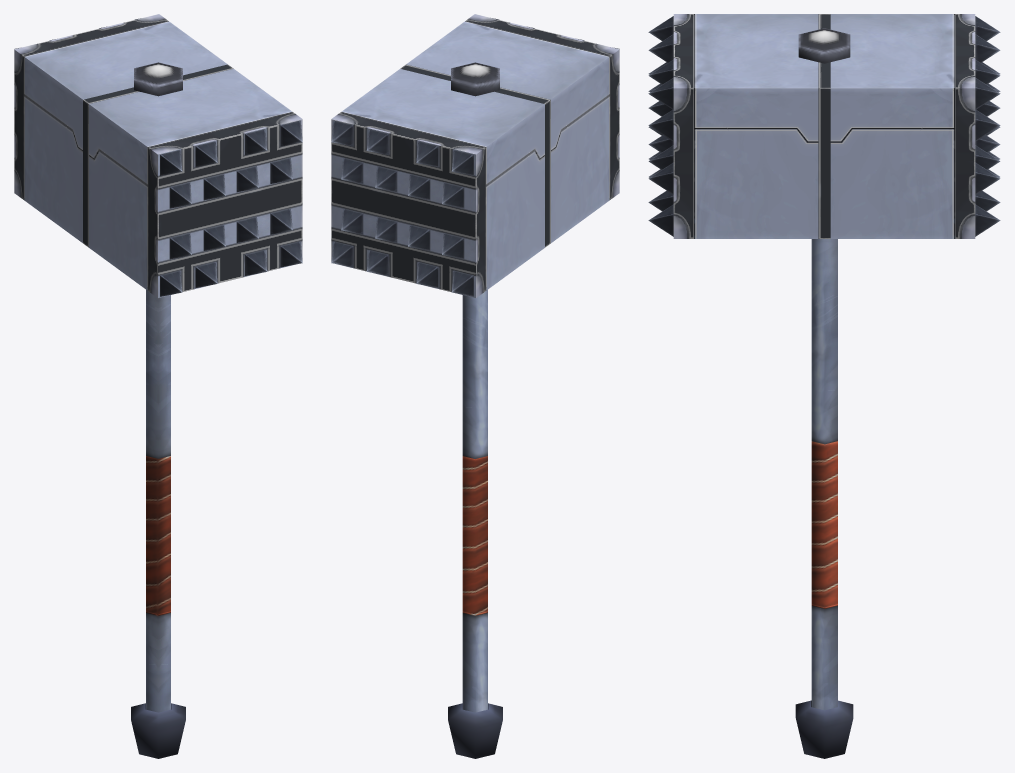
The model's file is Hammer2.FBX.
3 renders of one model, left to right at view 1: azimuth 30°, elevation 25°; view 2: azimuth 150°, elevation 25°; view 3: azimuth 270°, elevation 25°, orthographic. The views are drawn at different scales.
Visible parts, largest first — view 1: Hammer2; view 2: Hammer2; view 3: Hammer2.
Part boxes in pixels (x1,y1,x2,y2): Hammer2: (14,14,302,758); Hammer2: (331,14,619,758); Hammer2: (648,14,1000,758).
Bounding box in the file's own units: 0.2822 × 1.29 × 0.5661.
